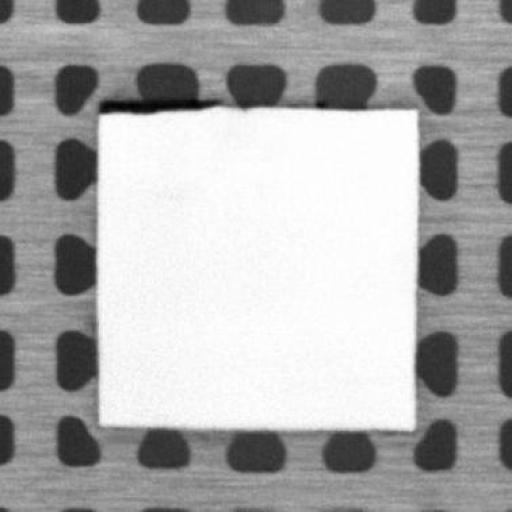DIE_BROKEN: (95, 96, 219, 113)
